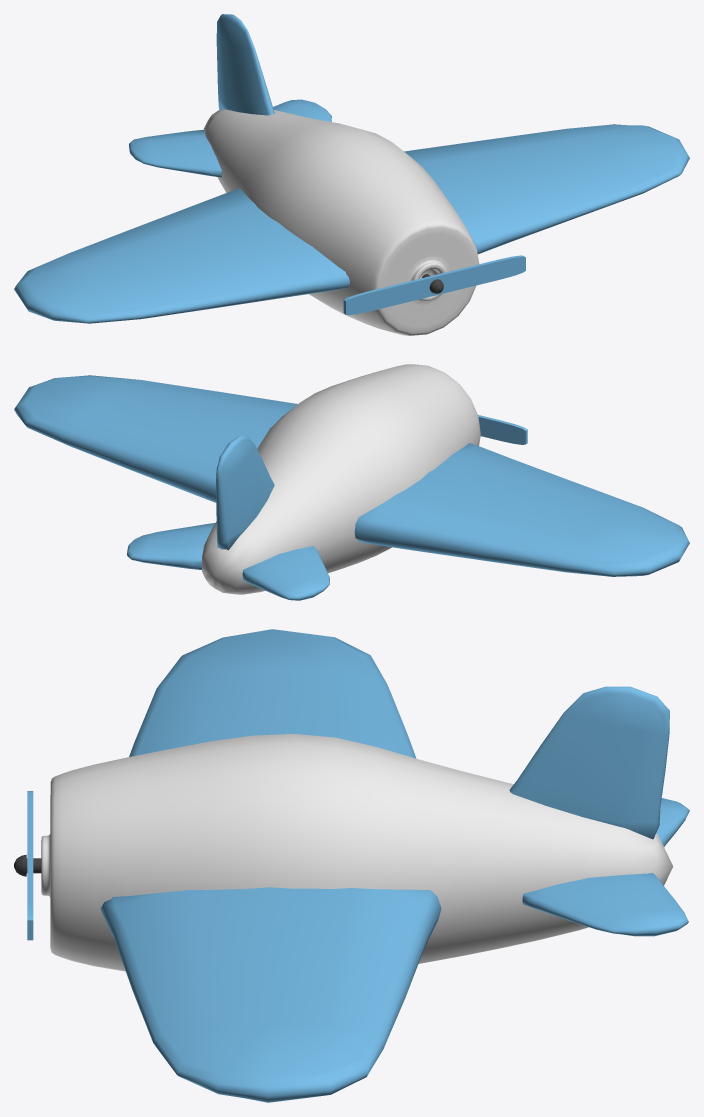
The model's file is ship_3.fbx.
3 renders of one model, top to bottom at view 1: azimuth 30°, elevation 25°; view 2: azimuth 150°, elevation 25°; view 3: azimuth 270°, elevation 25°, orthographic. The views are drawn at different scales.
Visible parts, largest first — view 1: Wings_front, Body, Up, Wings_back, prop; view 2: Wings_front, Body, Wings_back, Up, prop; view 3: Body, Wings_front, Up, Wings_back, prop.
Part boxes in pixels (x1=…): Wings_front: x1=14, y1=124, x2=689, y2=323; Body: x1=204, y1=109, x2=479, y2=335; Up: x1=216, y1=14, x2=274, y2=115; Wings_back: x1=129, y1=99, x2=331, y2=177; prop: x1=343, y1=255, x2=525, y2=315; Wings_front: x1=14, y1=375, x2=689, y2=576; Body: x1=202, y1=364, x2=480, y2=594; Wings_back: x1=127, y1=523, x2=329, y2=600; Up: x1=216, y1=435, x2=274, y2=550; prop: x1=478, y1=415, x2=527, y2=444; Body: x1=41, y1=734, x2=673, y2=971; Wings_front: x1=100, y1=629, x2=441, y2=1102; Up: x1=509, y1=686, x2=669, y2=839; Wings_back: x1=522, y1=798, x2=689, y2=936; prop: x1=27, y1=791, x2=33, y2=940.
Bounding box in the file's own units: 726 × 204 × 442.
